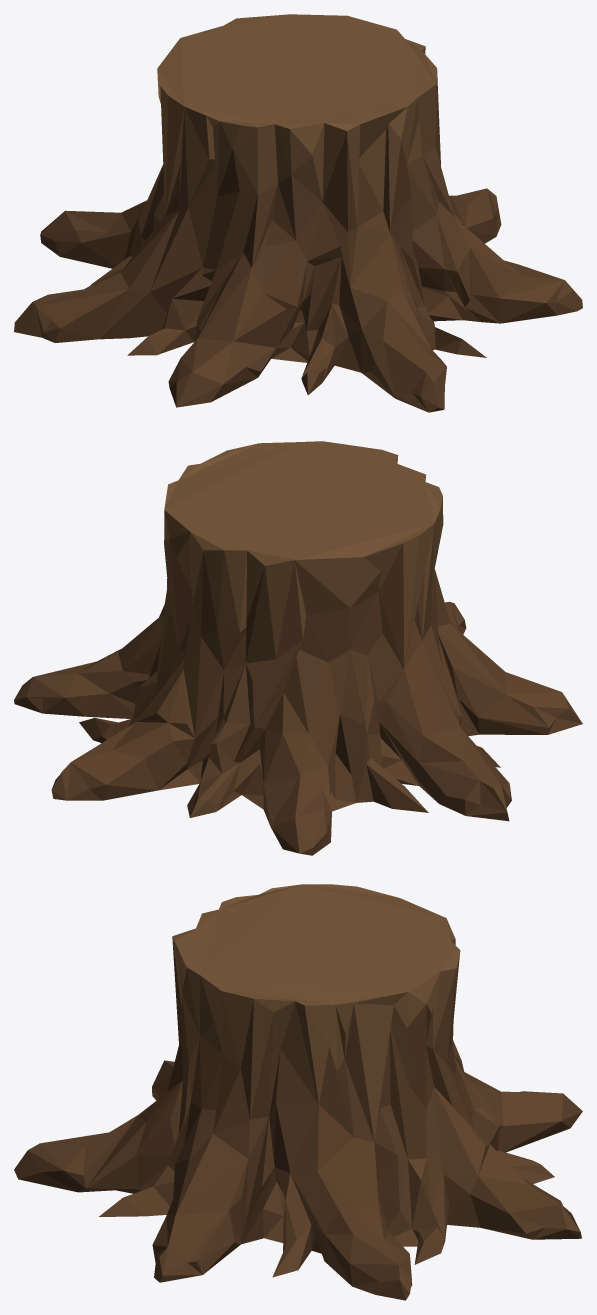
File: stump-2.glb
3 views of the same model, one above another, from view 1: azimuth 30°, elevation 25°; view 2: azimuth 150°, elevation 25°; view 3: azimuth 270°, elevation 25° (orthographic).
Parts seen in each view (by area): view 1: output_unwrapped; view 2: output_unwrapped; view 3: output_unwrapped.
Boxes of the visible parts, x1,y1,x2,y2 form: output_unwrapped: (14, 14, 582, 412); output_unwrapped: (14, 441, 582, 855); output_unwrapped: (14, 884, 582, 1300).
Size of the model in its own units: 1.4 by 0.6339 by 1.39.
